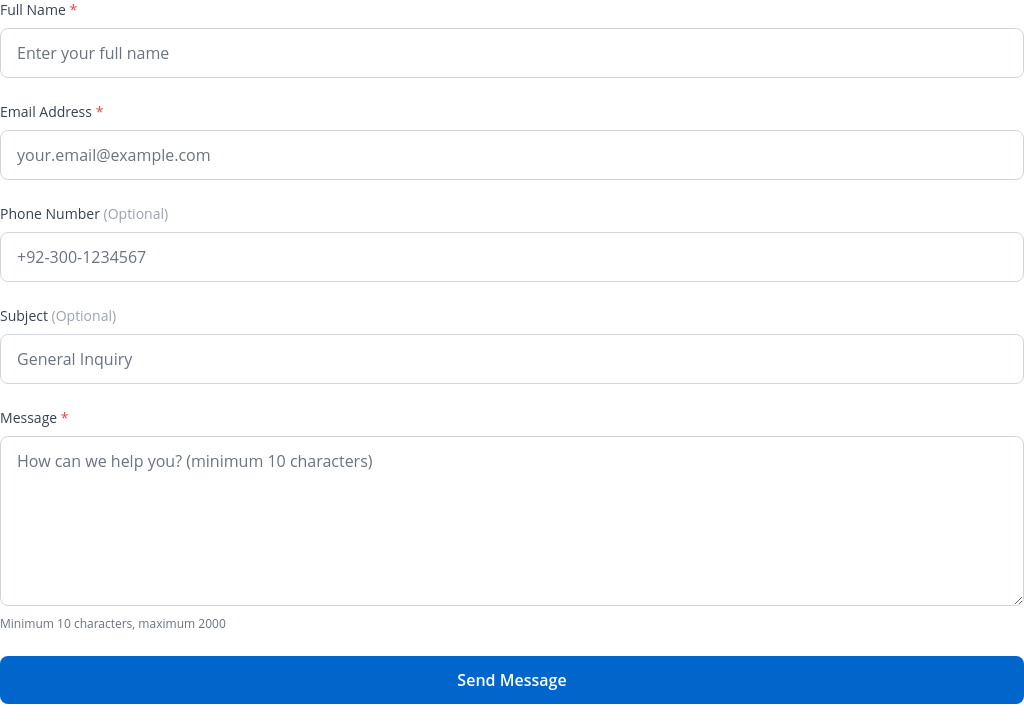
Scenario: ContactForm › Form Submission › should handle submission errors
Fill and submit
Type "John Doe" into the field labelled "Full Name *".
click(512, 53); type("John Doe")  # box [0,28,1023,78]
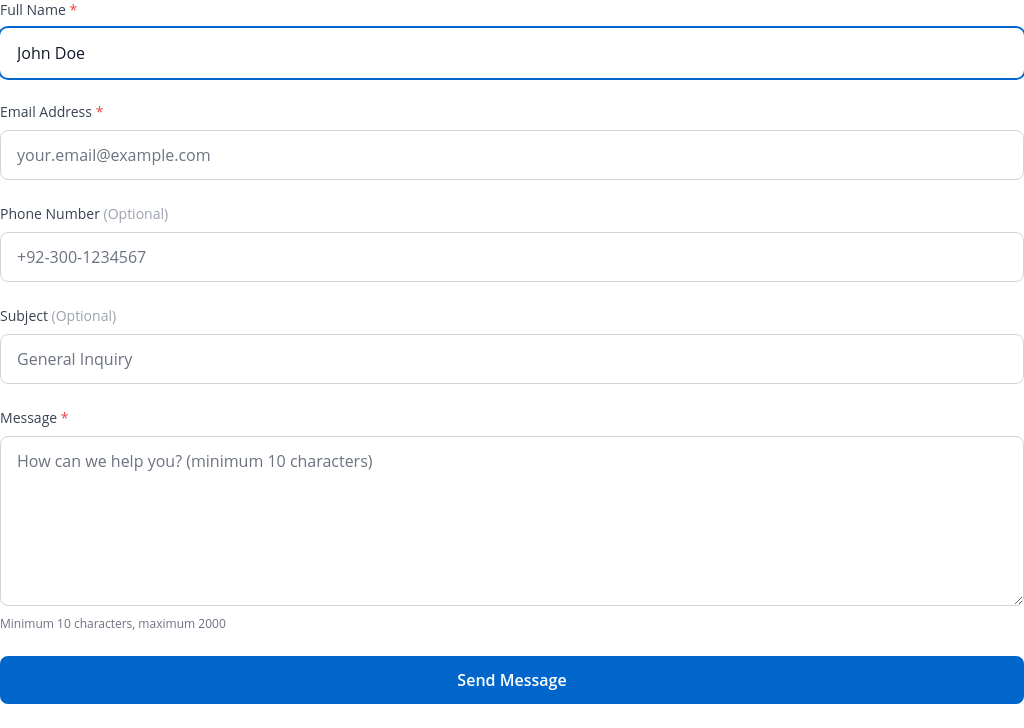
Type "john@example.com" into the field labelled "Email Address *".
click(512, 155); type("john@example.com")  # box [0,130,1023,180]
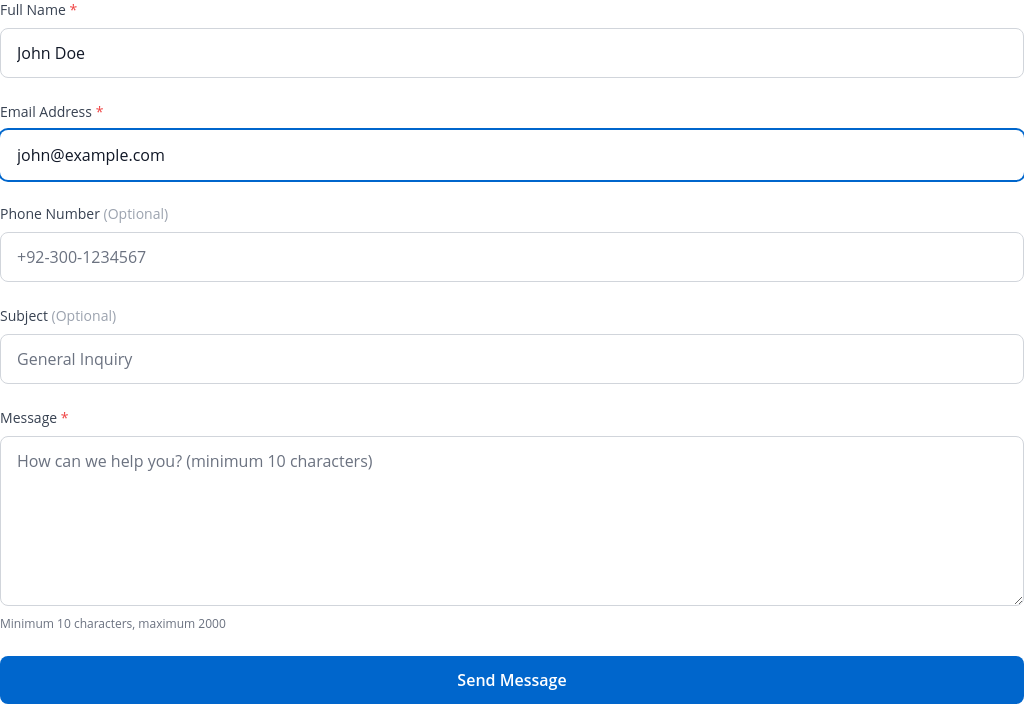
Type "Test message for error handling." into the text box labelled "Message *".
click(512, 521); type("Test message for error handling.")  # box [0,436,1023,606]
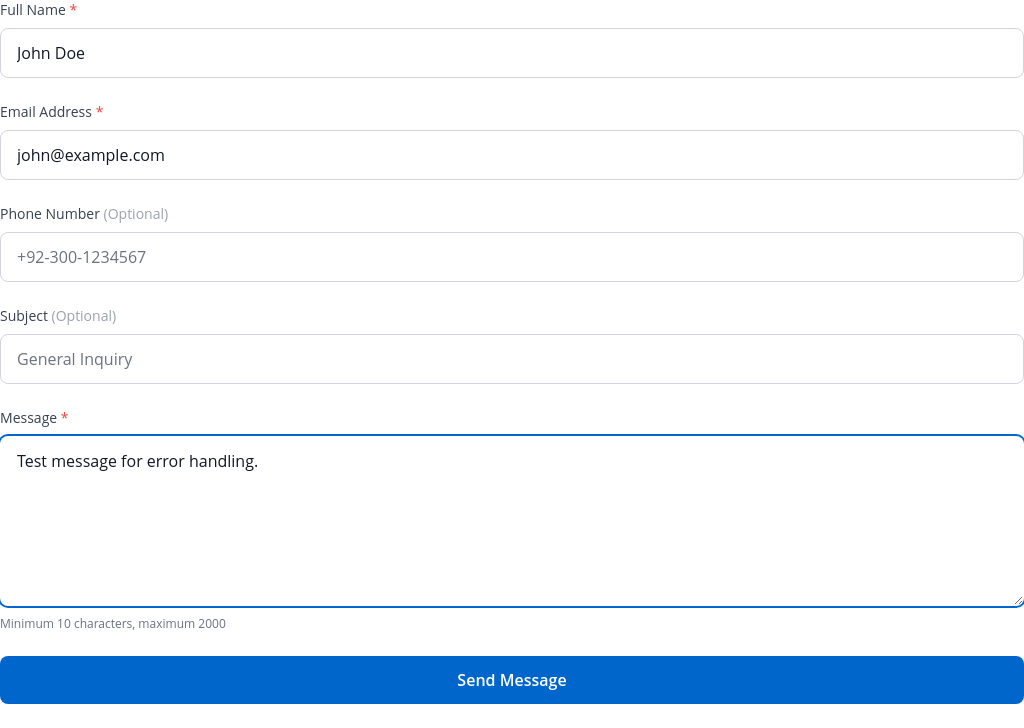
Click the button "Send Message".
click(512, 680)  # box [0,656,1023,704]
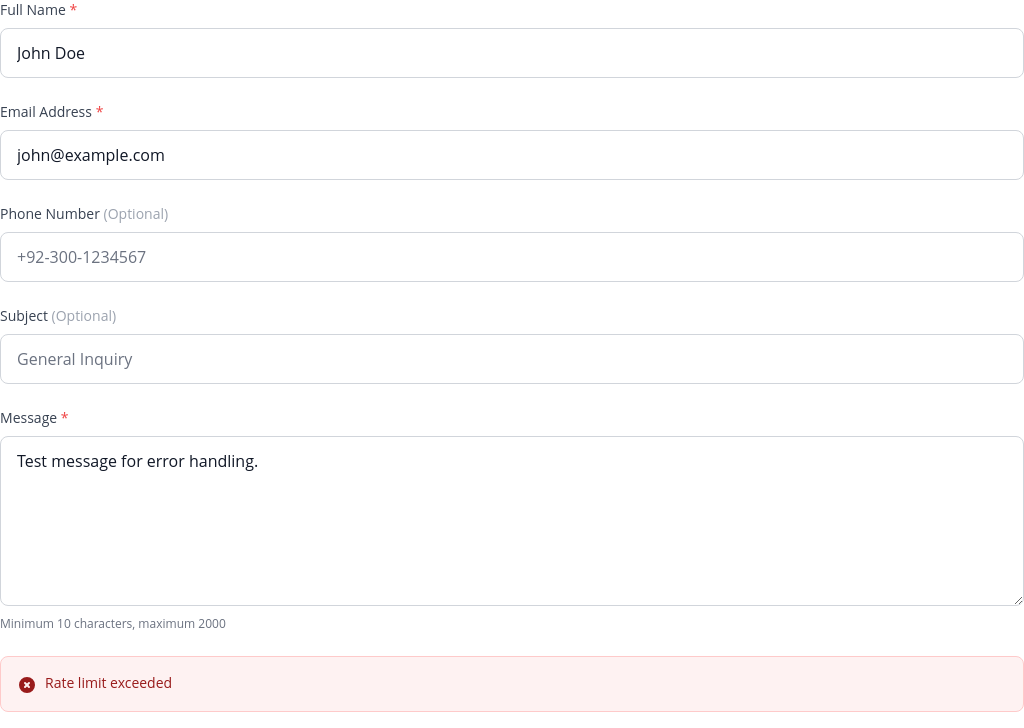
Check: the text "Rate limit exceeded" is shown, box [45,673,172,693]
